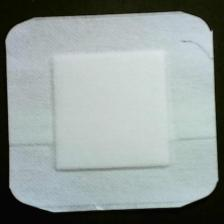Dressing: (6, 11, 223, 215)
F_Body: (174, 34, 214, 73)
